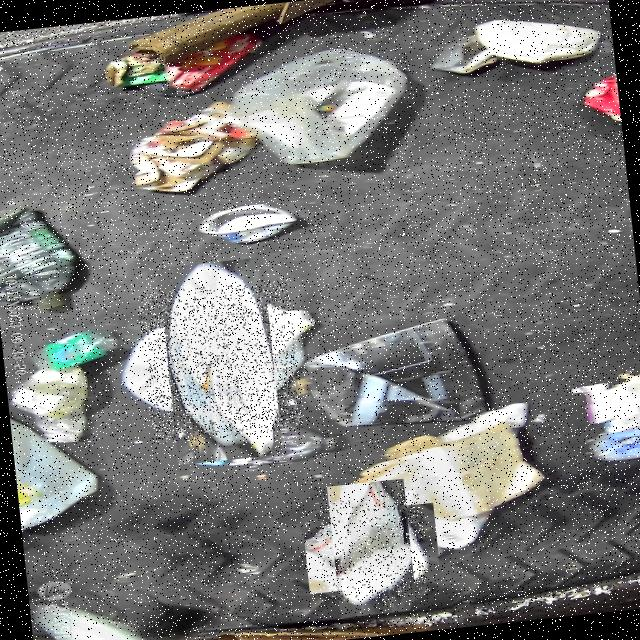milk-jug: (136, 278, 302, 445), (313, 491, 428, 605)
